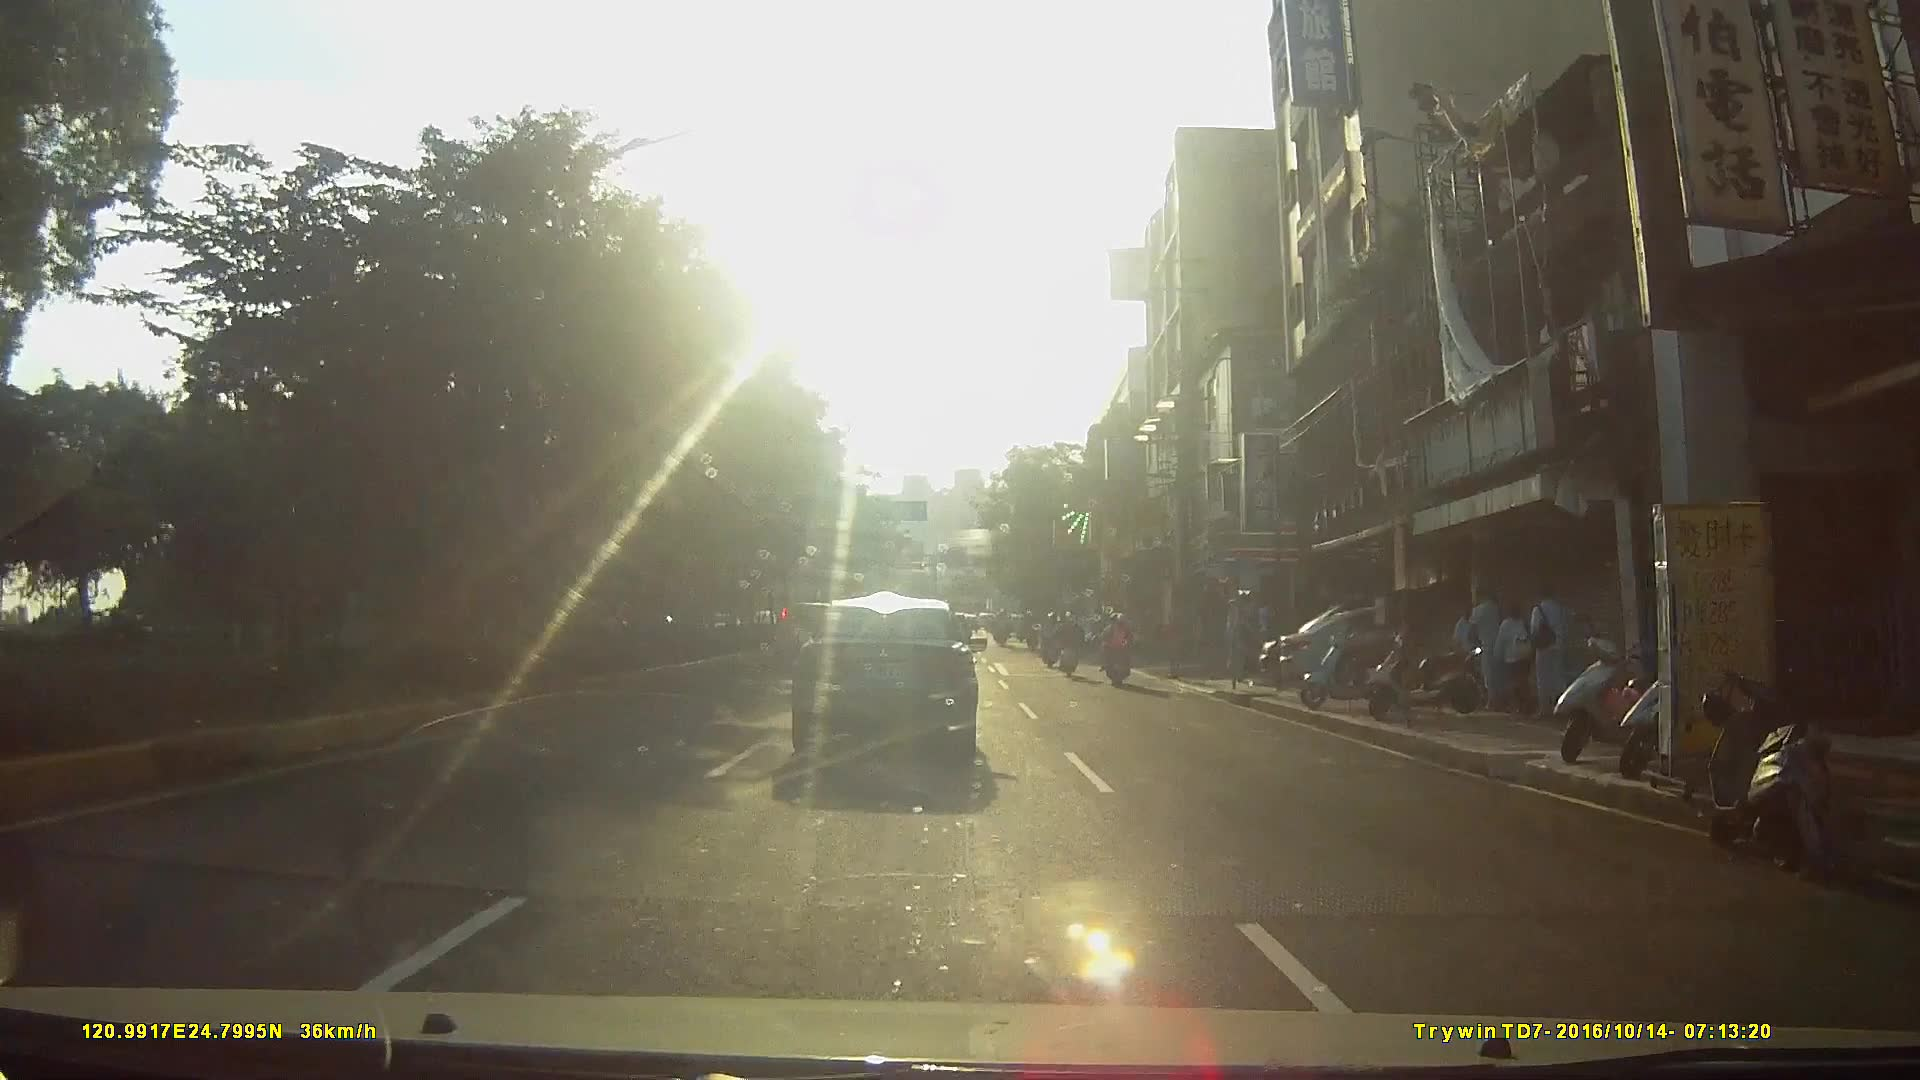pedestrian: (1525, 578, 1573, 724), (1489, 598, 1542, 716), (1469, 579, 1510, 712)
rider: (1103, 614, 1138, 693), (1056, 612, 1085, 679), (1041, 612, 1062, 670)
vehicle: (788, 598, 1002, 786)
